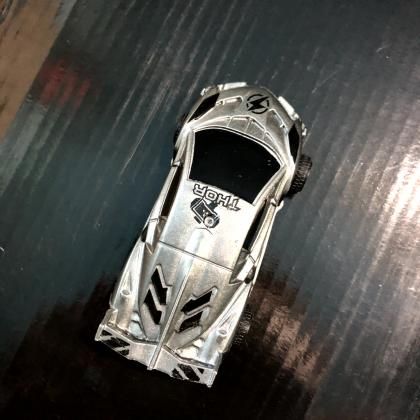Car: (94, 83, 313, 389)
